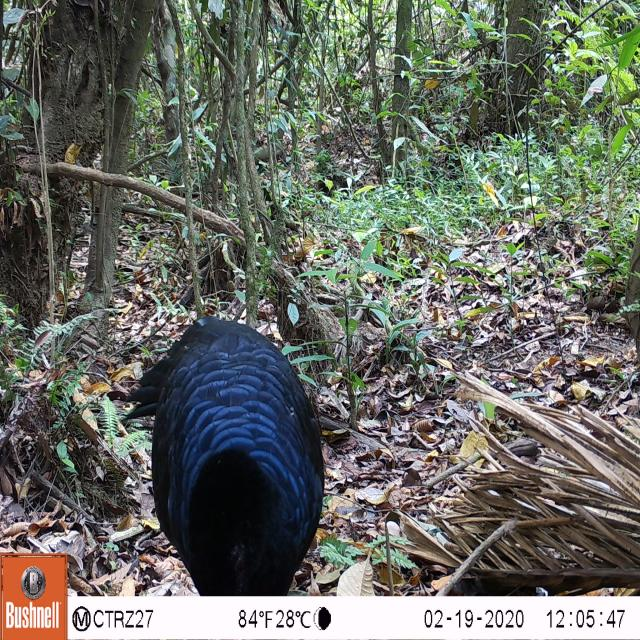Salvins Curassow: (119, 292, 337, 590)
